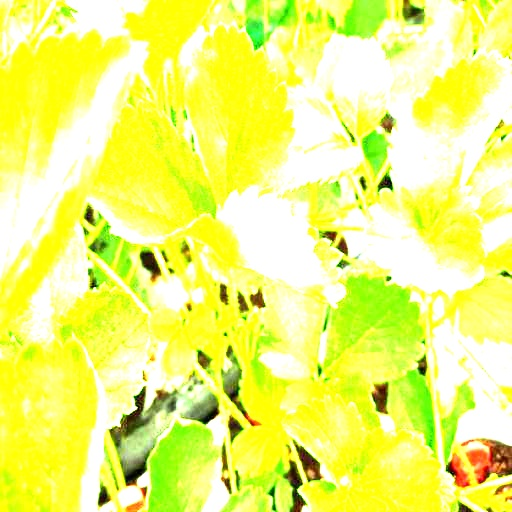Powdery Mildew Leaf: (388, 47, 511, 226), (86, 97, 217, 253), (215, 185, 347, 309)
